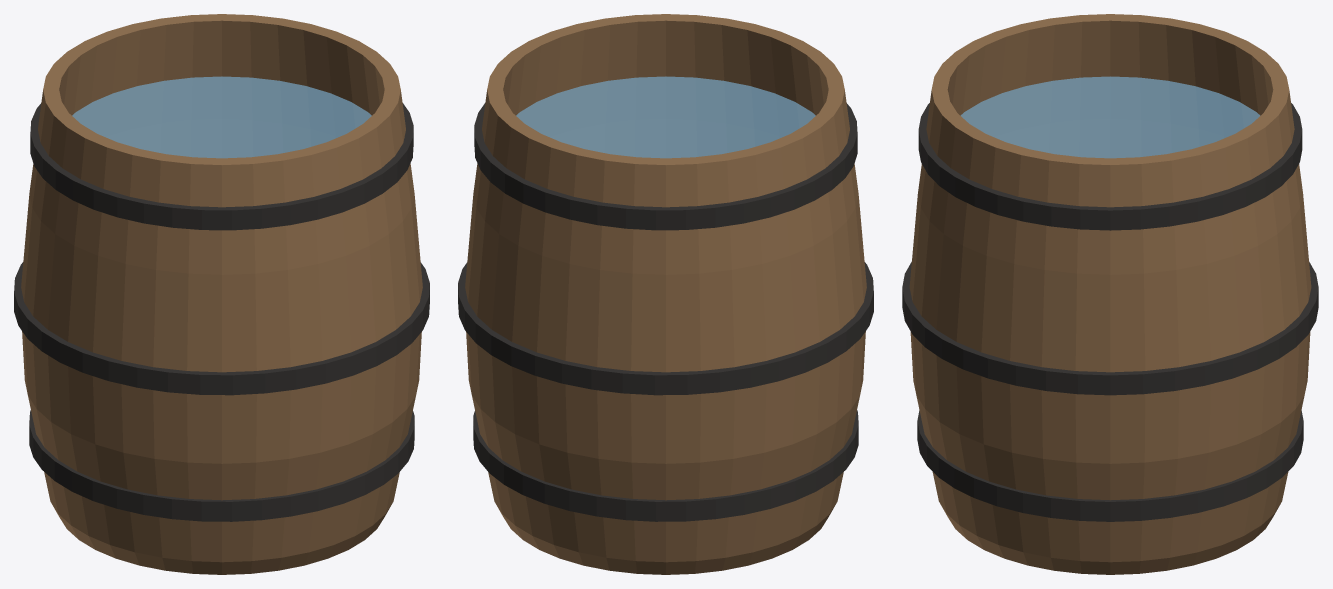
Rendered from RainBarrel.fbx.
The picture shows the model from 3 angles, left to right: view 1: azimuth 30°, elevation 25°; view 2: azimuth 150°, elevation 25°; view 3: azimuth 270°, elevation 25°; orthographic projection.
Visible parts, largest first — view 1: rain_barrel, rain_barrel_hoops, rain_barrel_water; view 2: rain_barrel, rain_barrel_hoops, rain_barrel_water; view 3: rain_barrel, rain_barrel_hoops, rain_barrel_water.
Boxes of the visible parts, x1=… form: rain_barrel: x1=21, y1=14, x2=422, y2=574; rain_barrel_hoops: x1=14, y1=103, x2=429, y2=521; rain_barrel_water: x1=72, y1=76, x2=371, y2=158; rain_barrel: x1=465, y1=14, x2=866, y2=574; rain_barrel_hoops: x1=458, y1=103, x2=873, y2=521; rain_barrel_water: x1=516, y1=76, x2=815, y2=158; rain_barrel: x1=909, y1=14, x2=1311, y2=574; rain_barrel_hoops: x1=902, y1=103, x2=1318, y2=521; rain_barrel_water: x1=960, y1=76, x2=1260, y2=158.
Size of the model in its own units: 0.908 by 1 by 0.908.
